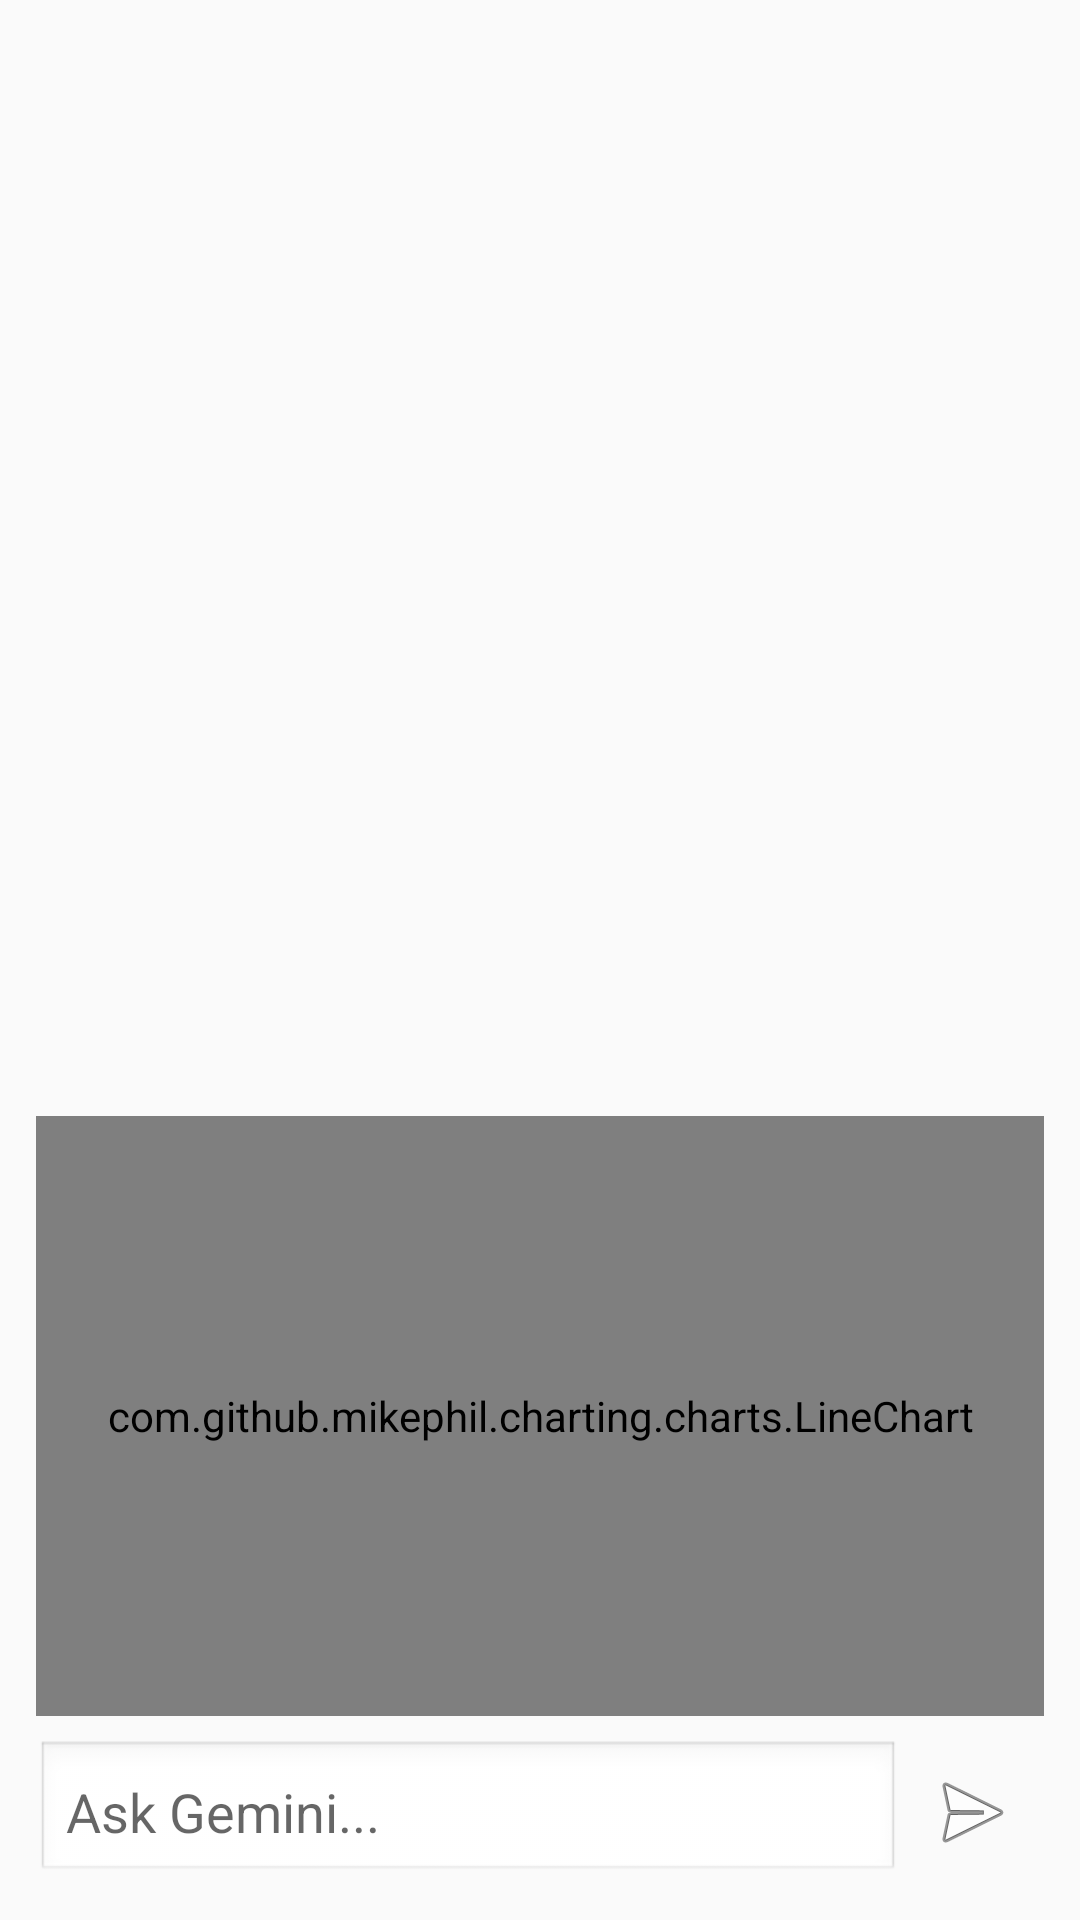

Point at icon controls on the screen. Image size 1080*1920, points as [x,y].
Send: [973,1812]
